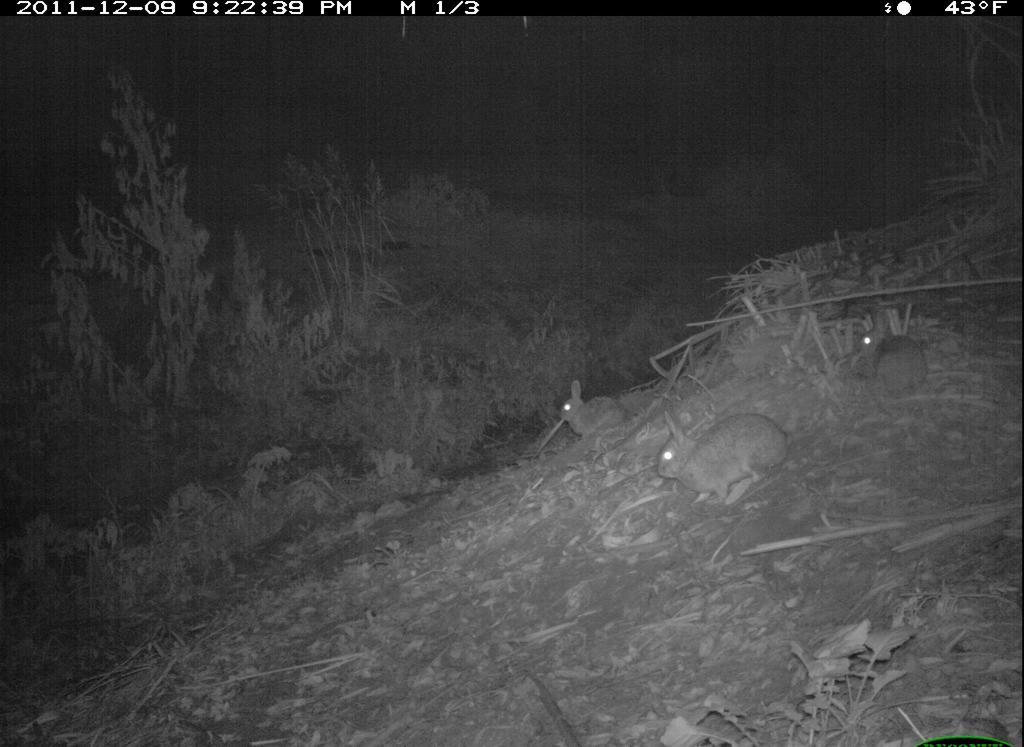rabbit: (659, 408, 795, 507), (849, 309, 935, 406), (553, 373, 638, 441)
